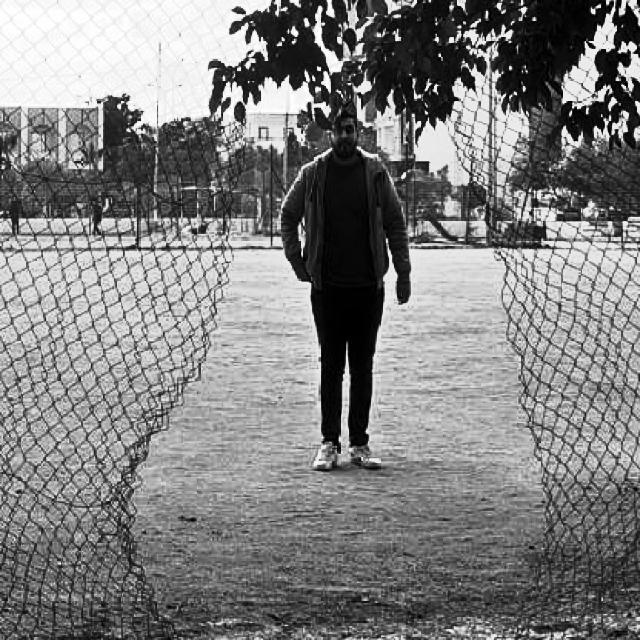anomaly-fence: (116, 90, 571, 636)
